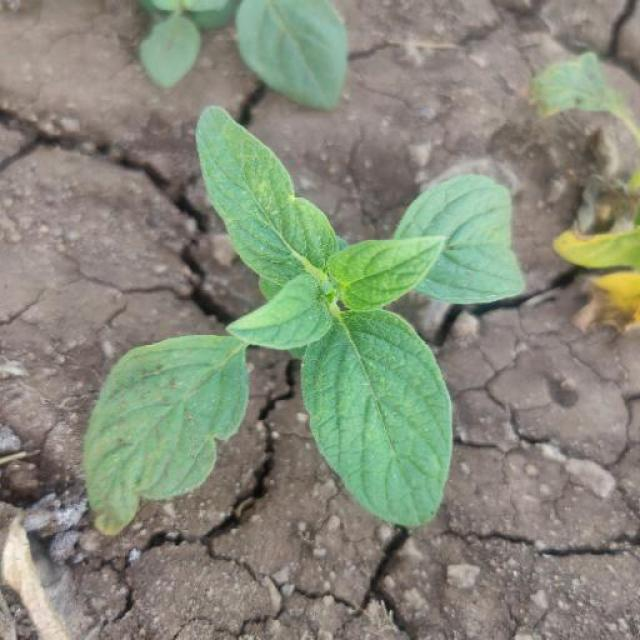crop: (74, 127, 548, 558)
